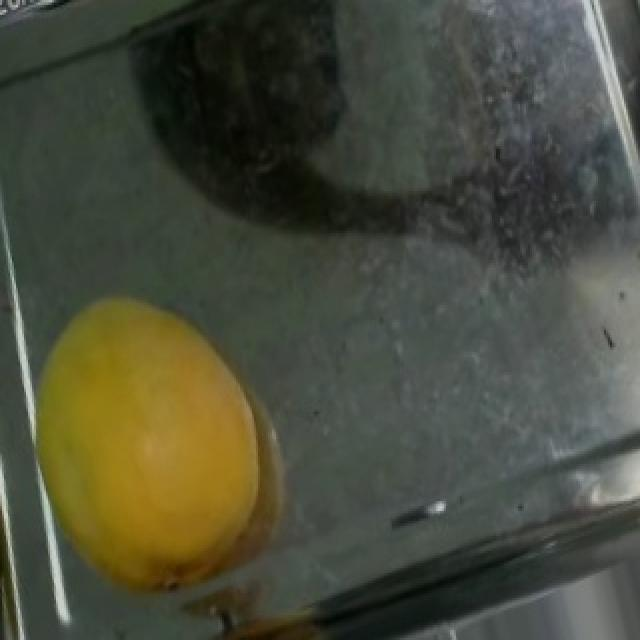fruit: (2, 263, 348, 625)
